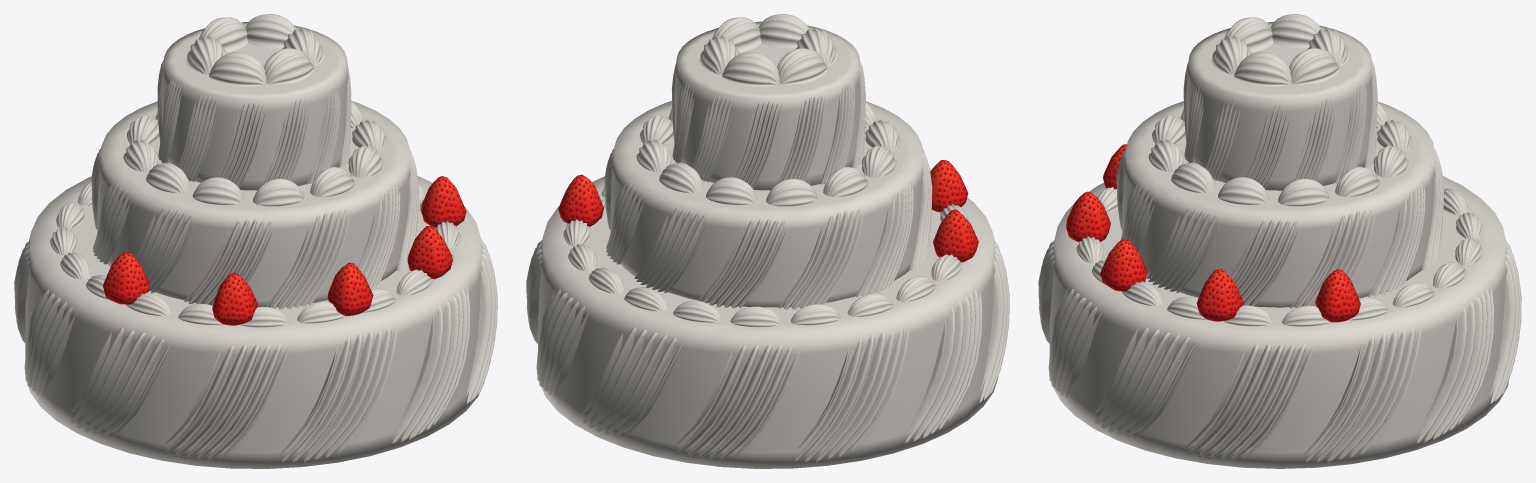
The picture shows the model from 3 angles, left to right: view 1: azimuth 30°, elevation 25°; view 2: azimuth 150°, elevation 25°; view 3: azimuth 270°, elevation 25°; orthographic projection.
Parts seen in each view (by area): view 1: pSphere13; view 2: pSphere13; view 3: pSphere13.
Part boxes in pixels (x1=…): pSphere13: x1=14, y1=14, x2=497, y2=468; pSphere13: x1=526, y1=14, x2=1009, y2=468; pSphere13: x1=1038, y1=14, x2=1521, y2=468.
Bounding box in the file's own units: 32.56 × 25.1 × 32.56.
